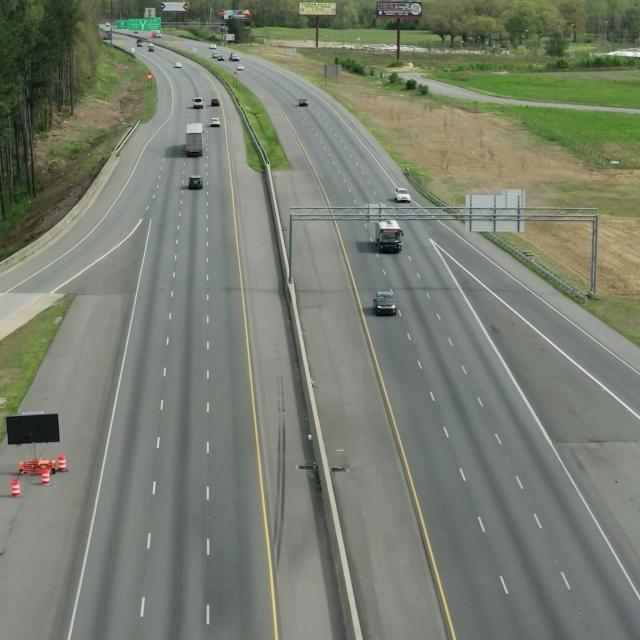Car: (371, 216, 405, 256), (372, 286, 398, 319), (185, 173, 205, 191)
